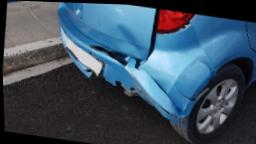Bumper: (58, 2, 217, 124)
